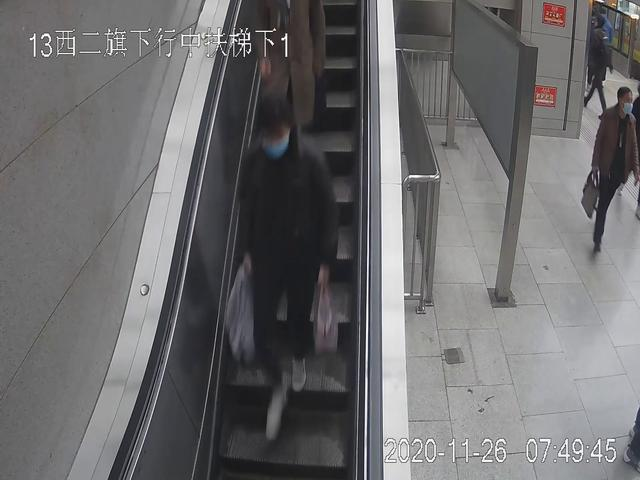person: (239, 96, 337, 442), (252, 1, 328, 196), (585, 87, 638, 253), (584, 15, 620, 122)
